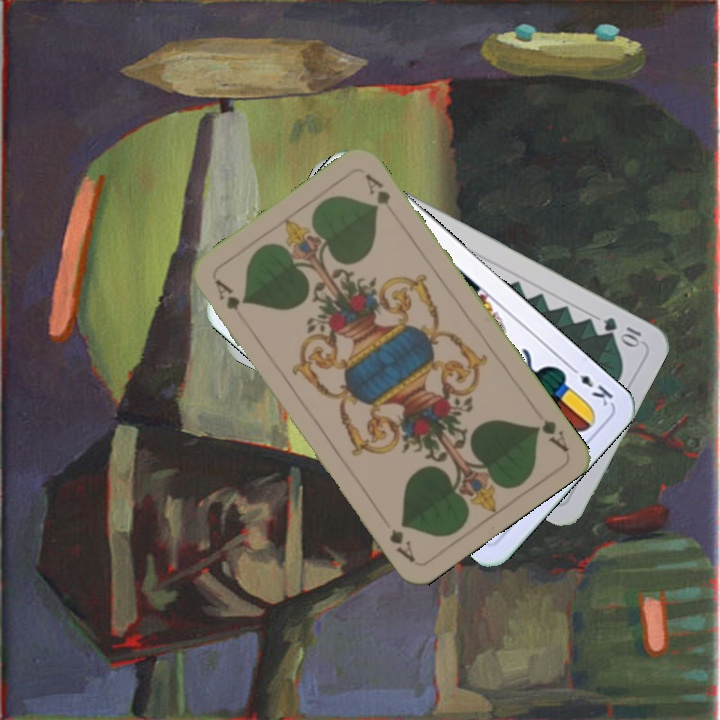EK: (565, 361, 616, 409)
G10: (598, 313, 646, 349)
GA: (210, 275, 250, 327), (529, 415, 571, 454)
